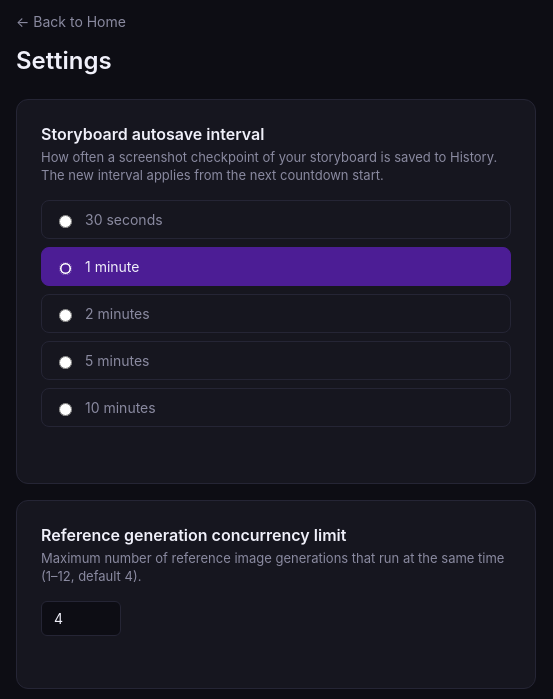
it: SettingsPage — concurrency limit section (AC-03) › shows a not-saved message and reverts to stored value on PUT failure
Replace the text in the number field with test id "concurrency-limit-input" with "10": [81, 618] box left=41, top=601, right=121, bottom=636
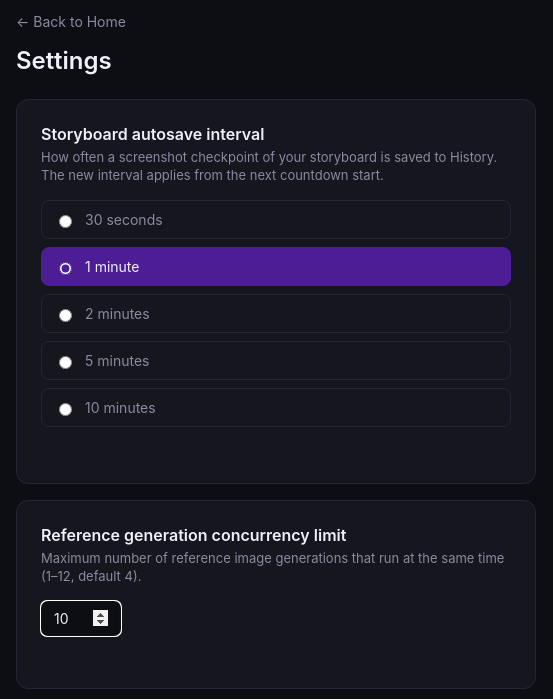
Leave the number field with test id "concurrency-limit-input", box left=41, top=601, right=121, bottom=636
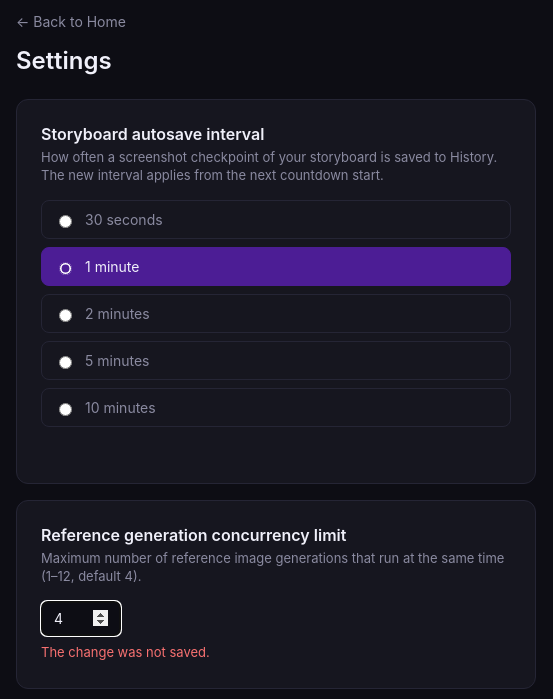
Result: the text "The change was not saved." is shown at left=41, top=644, right=210, bottom=660
Result: the number field with test id "concurrency-limit-input" holds "4" at left=41, top=601, right=121, bottom=636
